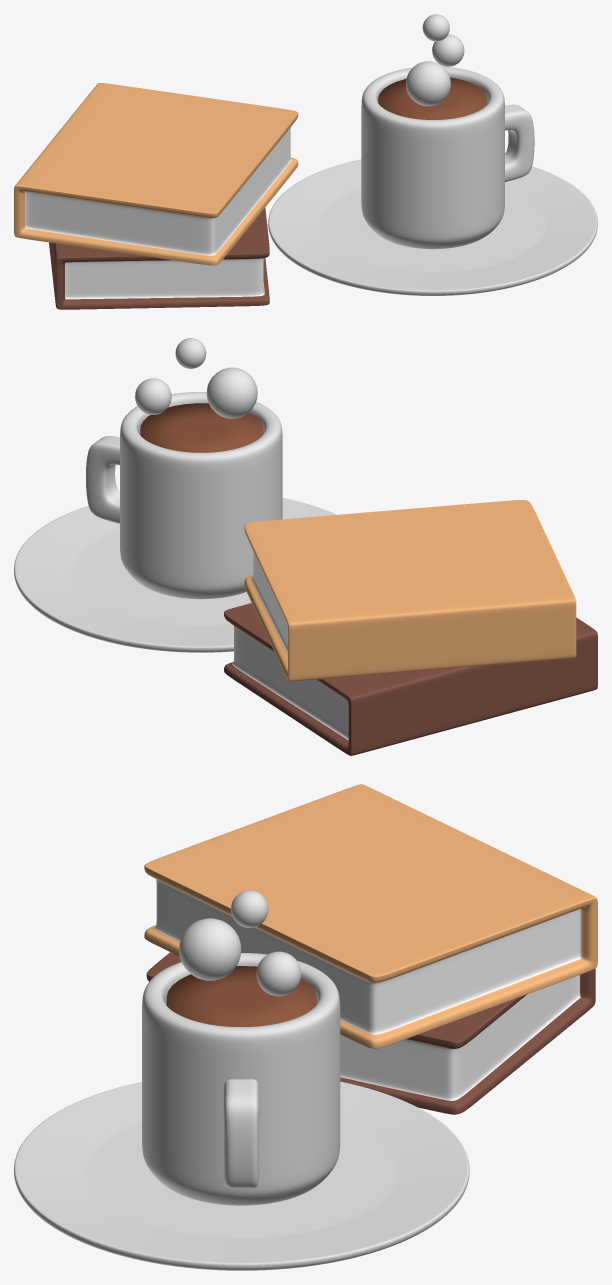
The model's file is coffeecup-v1.glb.
The picture shows the model from 3 angles, top to bottom: view 1: azimuth 30°, elevation 25°; view 2: azimuth 150°, elevation 25°; view 3: azimuth 270°, elevation 25°; orthographic projection. The views are drawn at different scales.
Visible parts, largest first — view 1: 立方体.001, 柱体, cup, 立方体, 柱体.001, handle, 球体, 球体.001, 球体.002; view 2: 立方体.001, cup, 立方体, 柱体, 柱体.001, handle, 球体, 球体.001, 球体.002; view 3: 立方体.001, 柱体, cup, 立方体, 柱体.001, handle, 球体, 球体.001, 球体.002.
Boxes of the visible parts, bbox=[...] form: 立方体.001: bbox=[14, 83, 298, 265]; 柱体: bbox=[268, 159, 597, 295]; cup: bbox=[361, 66, 504, 249]; 立方体: bbox=[49, 207, 269, 309]; 柱体.001: bbox=[378, 77, 486, 119]; handle: bbox=[505, 104, 534, 181]; 球体: bbox=[406, 61, 450, 106]; 球体.001: bbox=[432, 34, 464, 66]; 球体.002: bbox=[422, 14, 449, 41]; 立方体.001: bbox=[244, 500, 576, 681]; cup: bbox=[120, 392, 282, 599]; 立方体: bbox=[224, 603, 597, 755]; 柱体: bbox=[14, 498, 336, 652]; 柱体.001: bbox=[140, 403, 263, 452]; handle: bbox=[86, 436, 119, 523]; 球体: bbox=[206, 367, 257, 418]; 球体.001: bbox=[135, 378, 171, 414]; 球体.002: bbox=[175, 338, 206, 368]; 立方体.001: bbox=[144, 784, 597, 1048]; 柱体: bbox=[14, 1081, 469, 1270]; cup: bbox=[142, 953, 340, 1205]; 立方体: bbox=[146, 952, 595, 1114]; 柱体.001: bbox=[166, 966, 316, 1026]; handle: bbox=[223, 1079, 259, 1188]; 球体: bbox=[179, 918, 241, 980]; 球体.001: bbox=[256, 951, 301, 996]; 球体.002: bbox=[231, 890, 268, 927].
Size of the model in its own units: 8.27 by 3.25 by 5.84.
